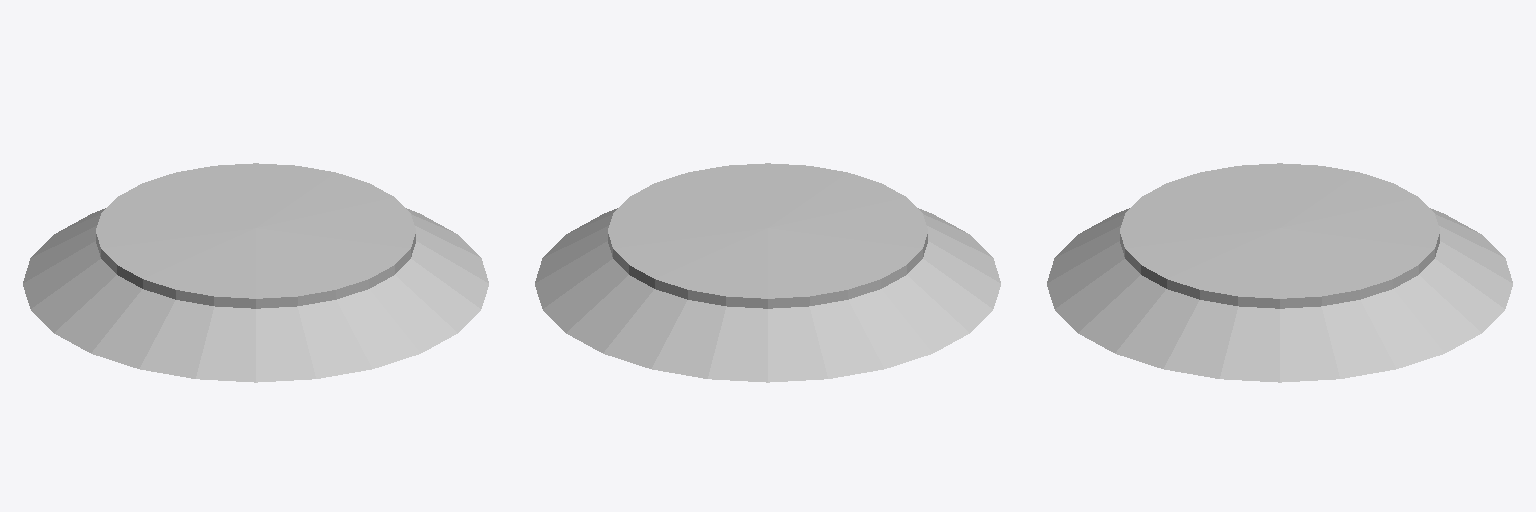
Rendered from heathbass.obj.
3 renders of one model, left to right at view 1: azimuth 30°, elevation 25°; view 2: azimuth 150°, elevation 25°; view 3: azimuth 270°, elevation 25°, orthographic.
Parts seen in each view (by area): view 1: RoadKillOut; view 2: RoadKillOut; view 3: RoadKillOut.
Boxes of the visible parts, x1=… form: RoadKillOut: x1=23, y1=163, x2=488, y2=382; RoadKillOut: x1=535, y1=163, x2=1000, y2=382; RoadKillOut: x1=1047, y1=163, x2=1512, y2=382.
Bounding box in the file's own units: 2.53 × 0.3338 × 2.53.